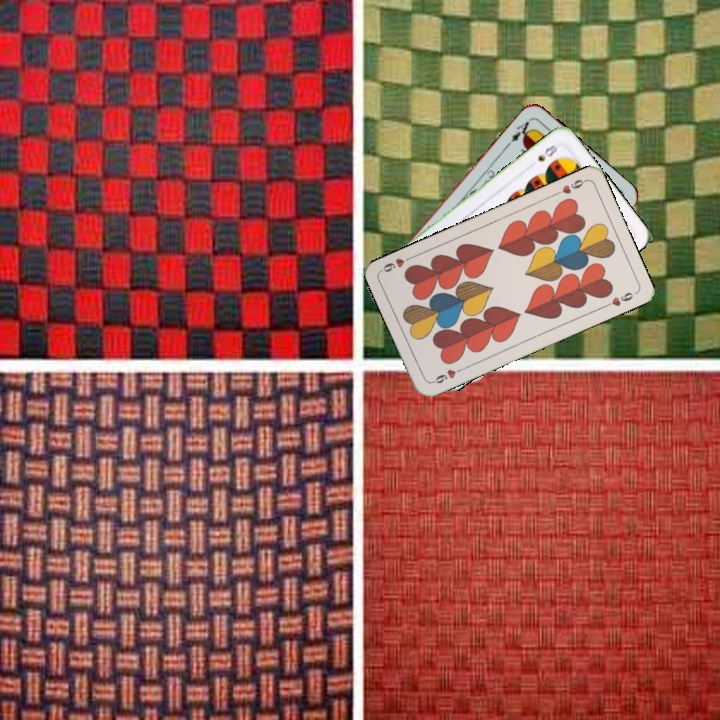EA: (507, 115, 536, 145)
H9: (550, 175, 589, 198), (427, 364, 466, 386)
S8: (533, 140, 560, 164)
